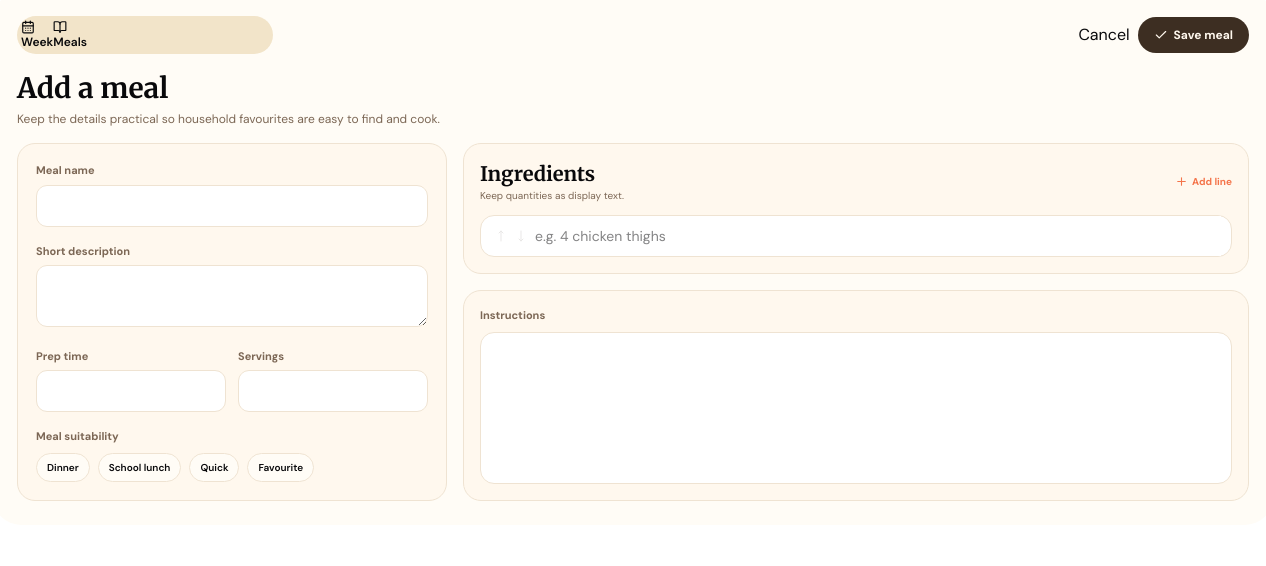
it: recipe routes › keeps the create form visible when saving fails
Type "Veggie pasta" into the field labelled "Meal name" at point(232, 206), box [36, 185, 428, 227]
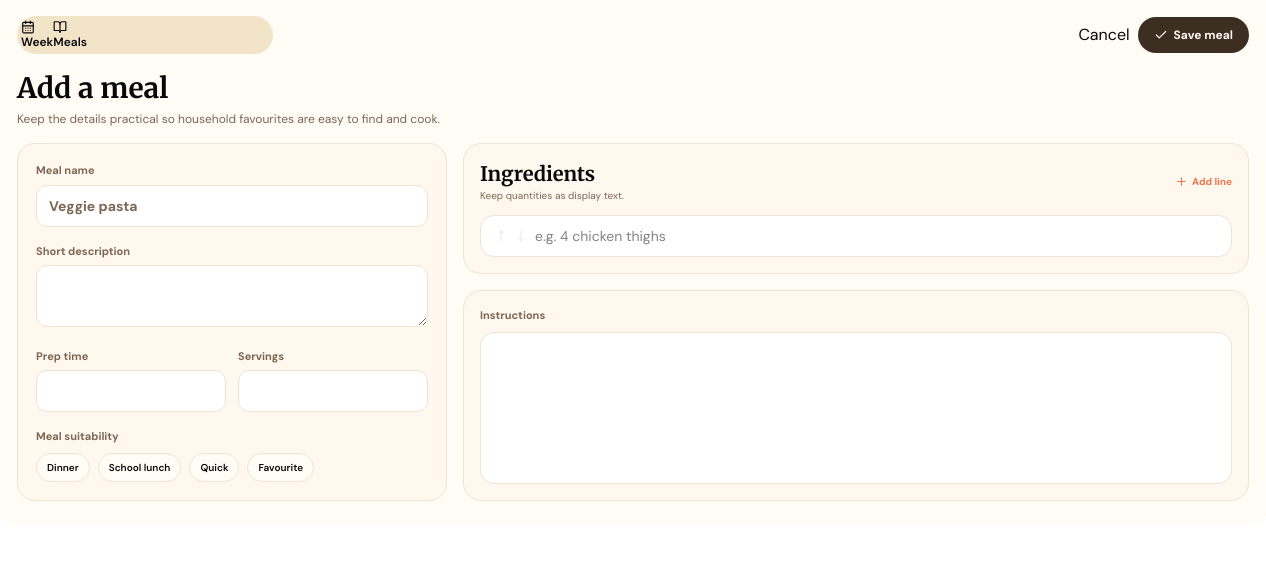
Type "400 g pasta" into the field named "Ingredient 1" at point(878, 236), box [535, 216, 1221, 256]
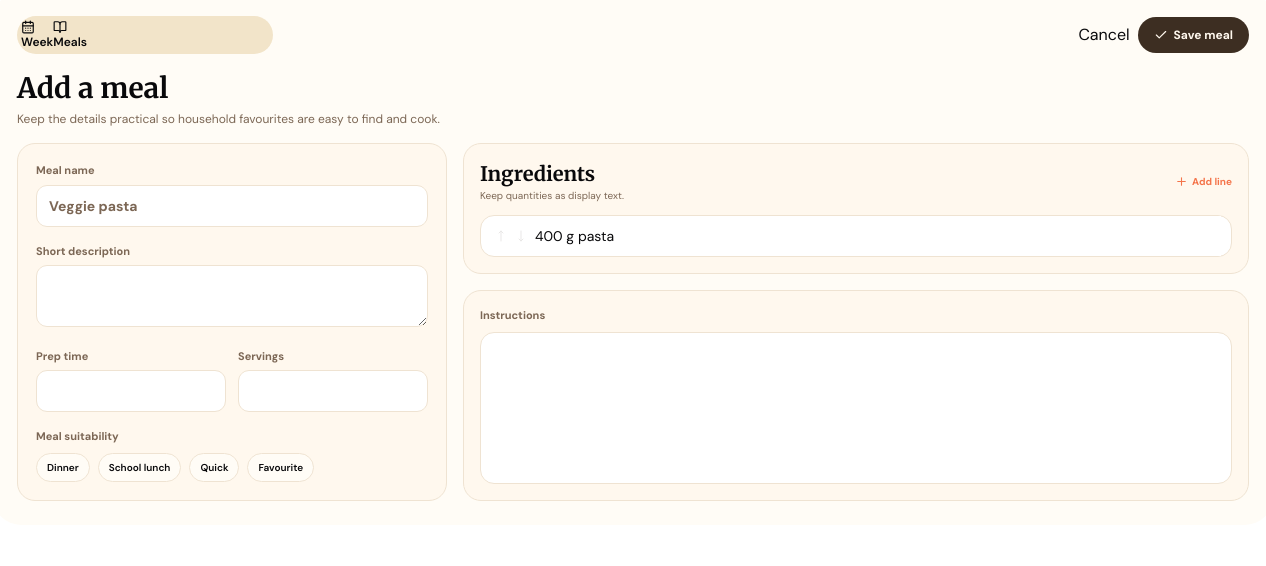
Type "Cook and serve." into the text box labelled "Instructions" at point(856, 408), box [480, 332, 1232, 484]
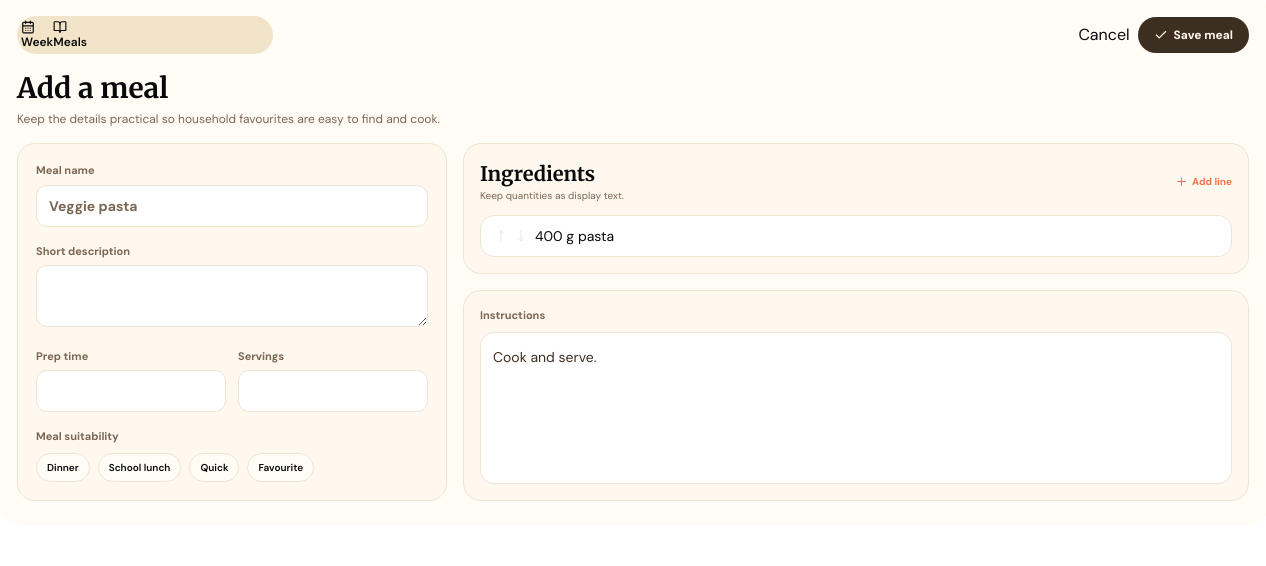
Click the button "Save meal" at point(1193, 35), box [1138, 17, 1249, 53]
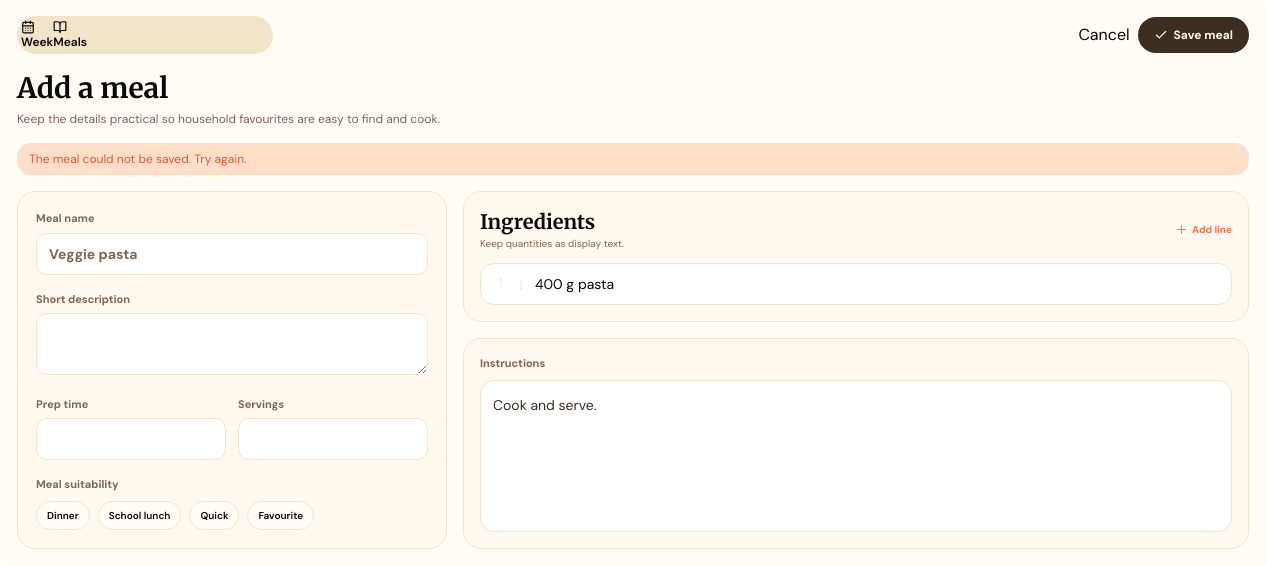
Expected: the message shows "The meal could not be saved.", [29, 151, 246, 167]
